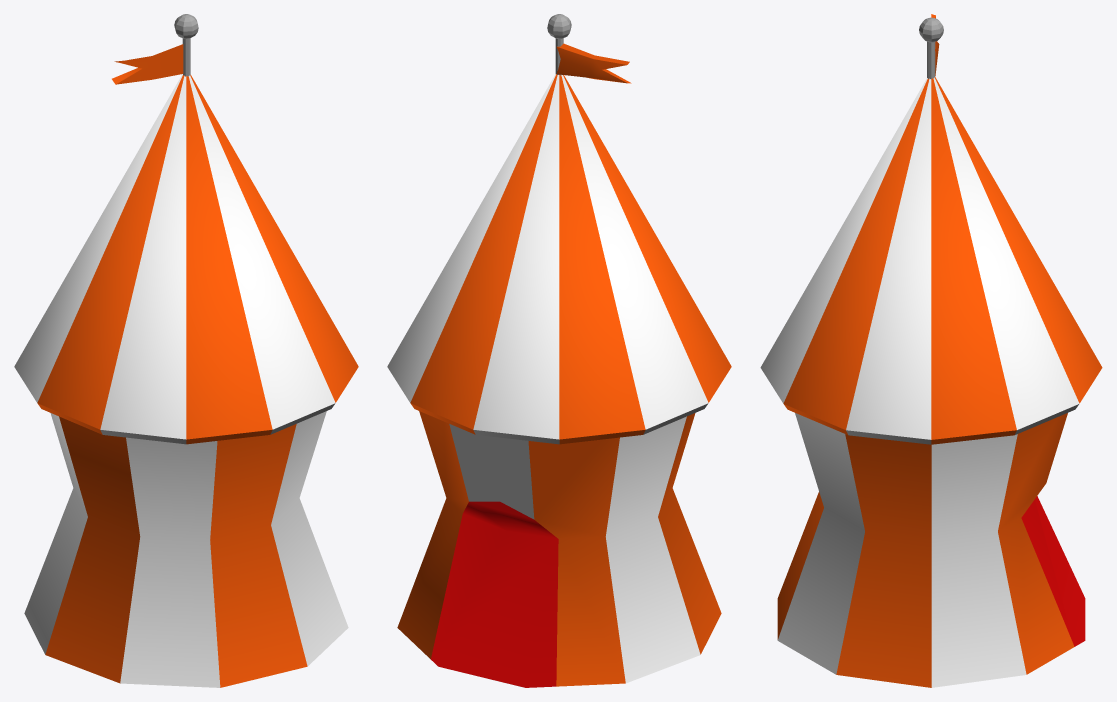
File: SmallTent.fbx
3 views of the same model, side by side, from view 1: azimuth 30°, elevation 25°; view 2: azimuth 150°, elevation 25°; view 3: azimuth 270°, elevation 25° (orthographic).
Visible parts, largest first — view 1: CircusTentTop, CircusTentBody, Flag; view 2: CircusTentTop, CircusTentBody, Flag; view 3: CircusTentTop, CircusTentBody.
Part boxes in pixels (x1,y1,x2,y2): CircusTentTop: (14,74,358,444); CircusTentBody: (24,411,348,687); Flag: (112,44,183,84); CircusTentTop: (387,74,731,444); CircusTentBody: (397,411,721,687); Flag: (556,43,631,83); CircusTentTop: (760,77,1102,444); CircusTentBody: (777,413,1085,687).
Size of the model in its own units: 3.86 by 7.48 by 3.86.
